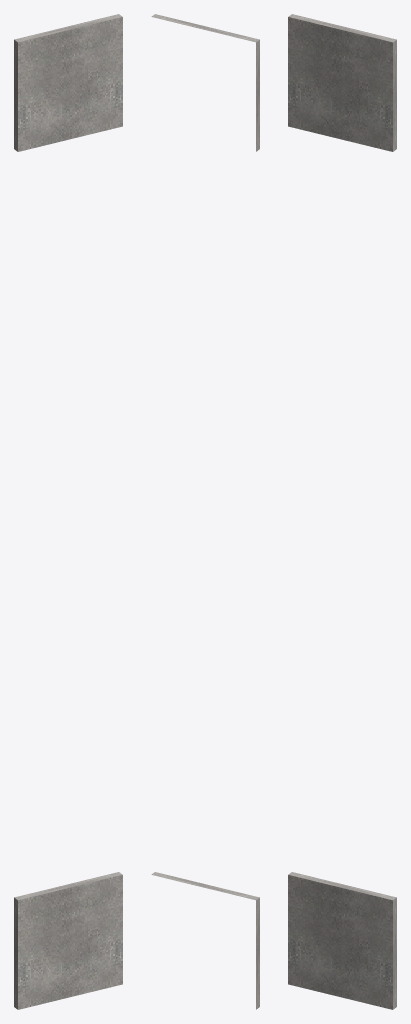
Rendered from jc-sj-618-geode.glb.
The picture shows the model from 3 angles, left to right: view 1: azimuth 30°, elevation 25°; view 2: azimuth 150°, elevation 25°; view 3: azimuth 330°, elevation 25°; orthographic projection.
Parts seen in each view (by area): view 1: Node; view 2: Node; view 3: Node.
Boxes of the visible parts, <box> form: Node: <box>14,14,122,1009</box>; Node: <box>151,14,259,1009</box>; Node: <box>288,14,396,1009</box>.
Size of the model in its own units: 0.5102 by 4.5 by 0.033.
1 material, 1 textured.
